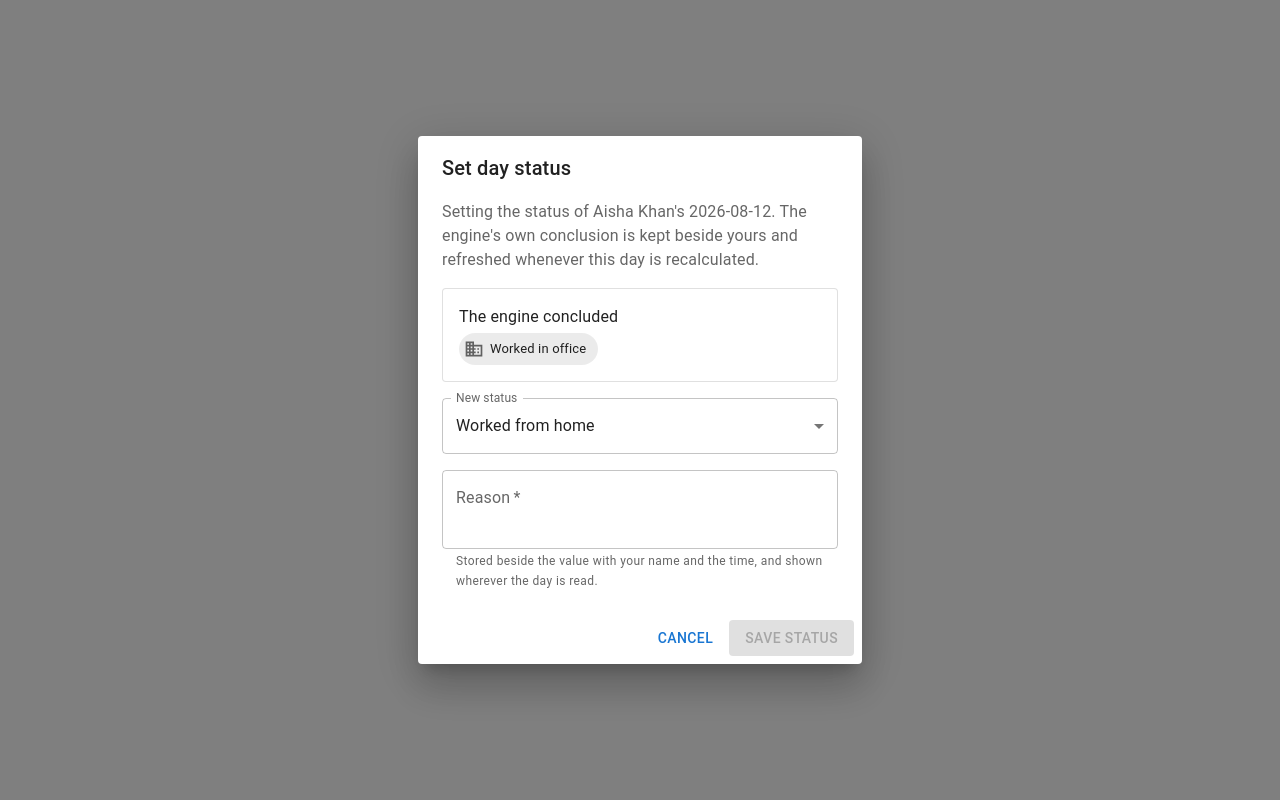
Test: DayStatusDialog › asks for the leave type only once LEAVE is chosen (D-9)
Check: the field labelled "leave type" is not shown
Click the dropdown named "new status": (525, 426) [456,416,595,435]
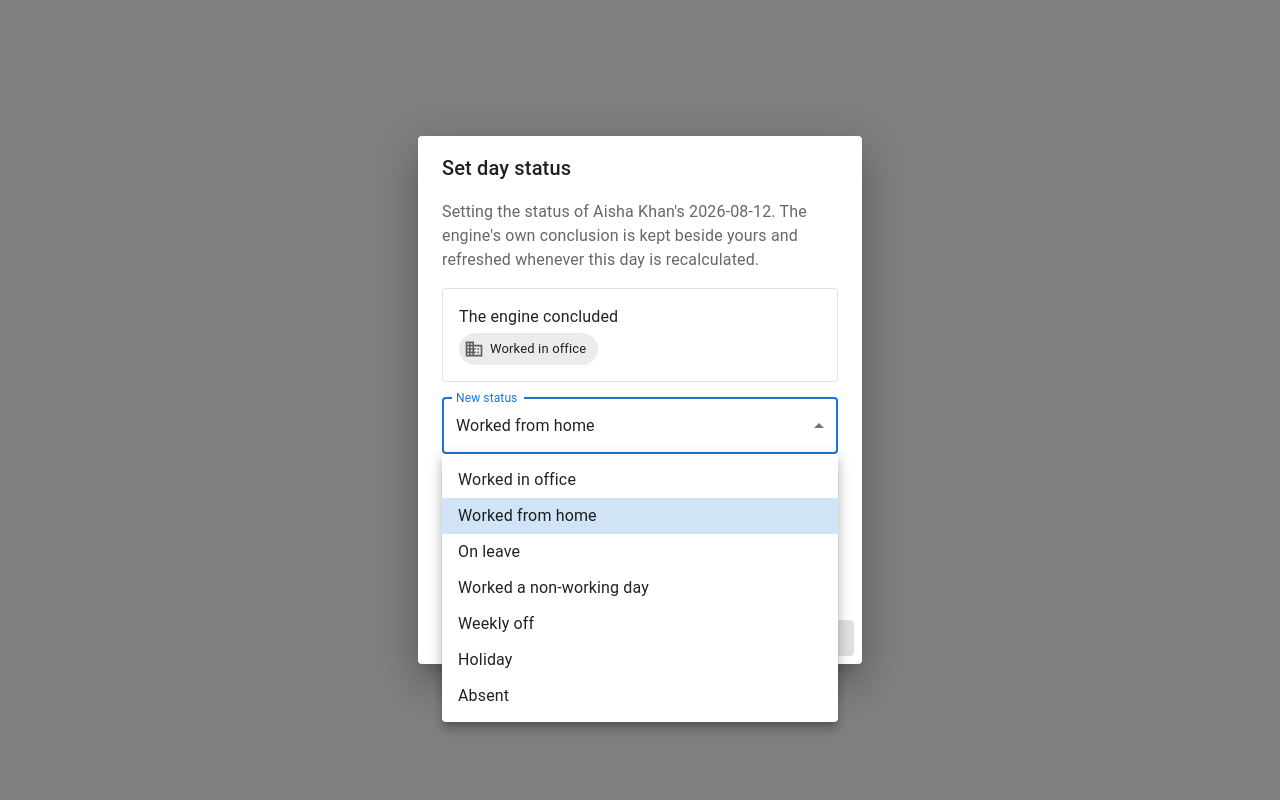
Click the option "On leave": (489, 552) [458,542,520,561]
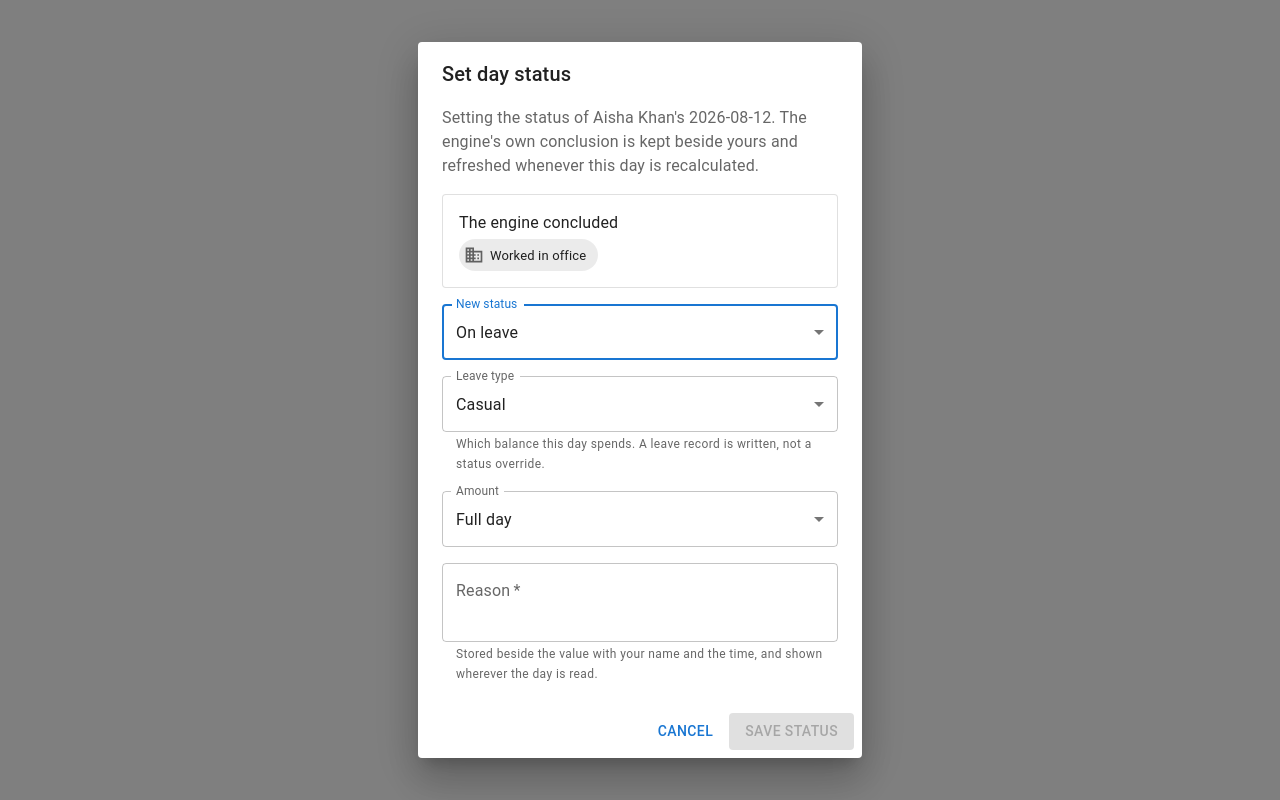
Check: the dropdown named "leave type" is shown, box [456,395,506,414]
